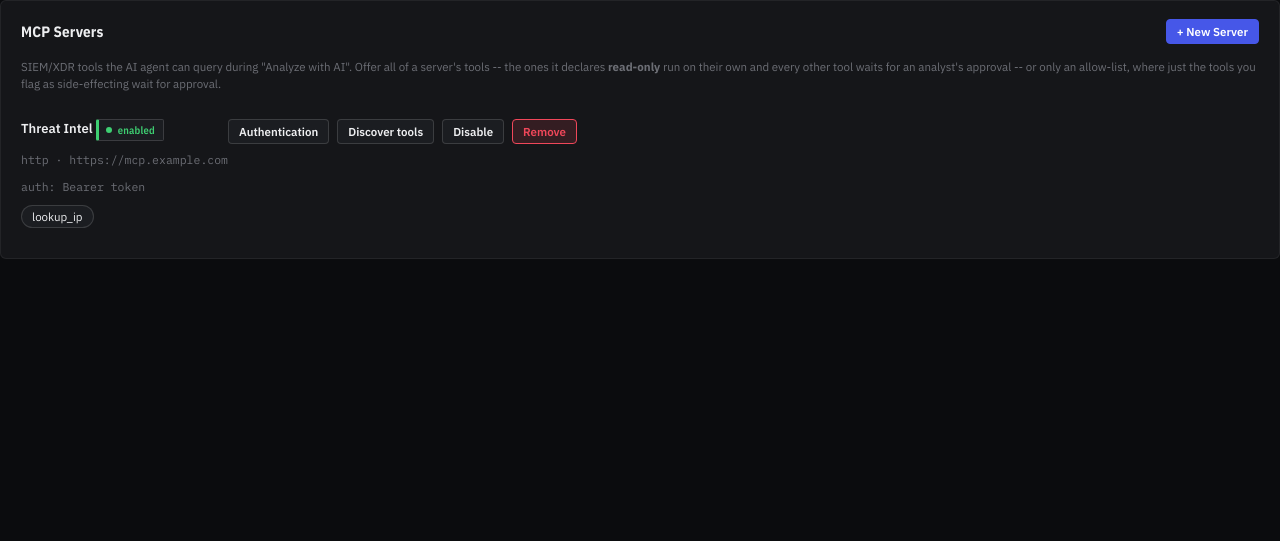
Scenario: editing a saved server's authentication › switching to a different type makes the new secret required (the old one can't be reinterpreted)
The image size is (1280, 541).
Click the button "Authentication".
click(279, 131)  # box [228,118,329,144]
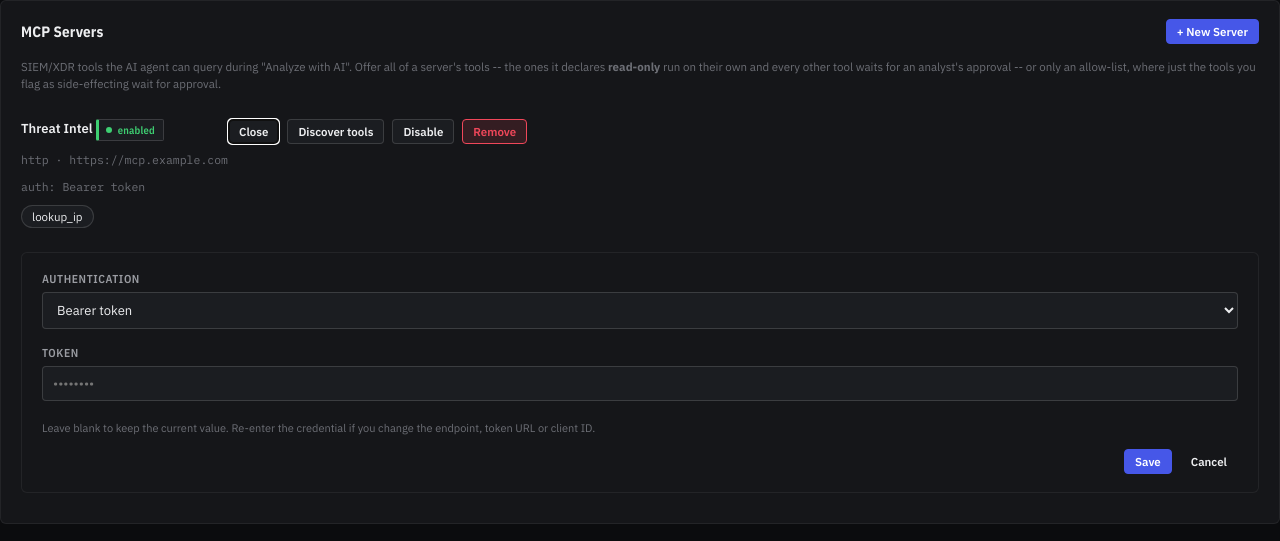
Select "API key" in the dropdown labelled "Authentication" at (640, 310), box [42,292,1238,329]
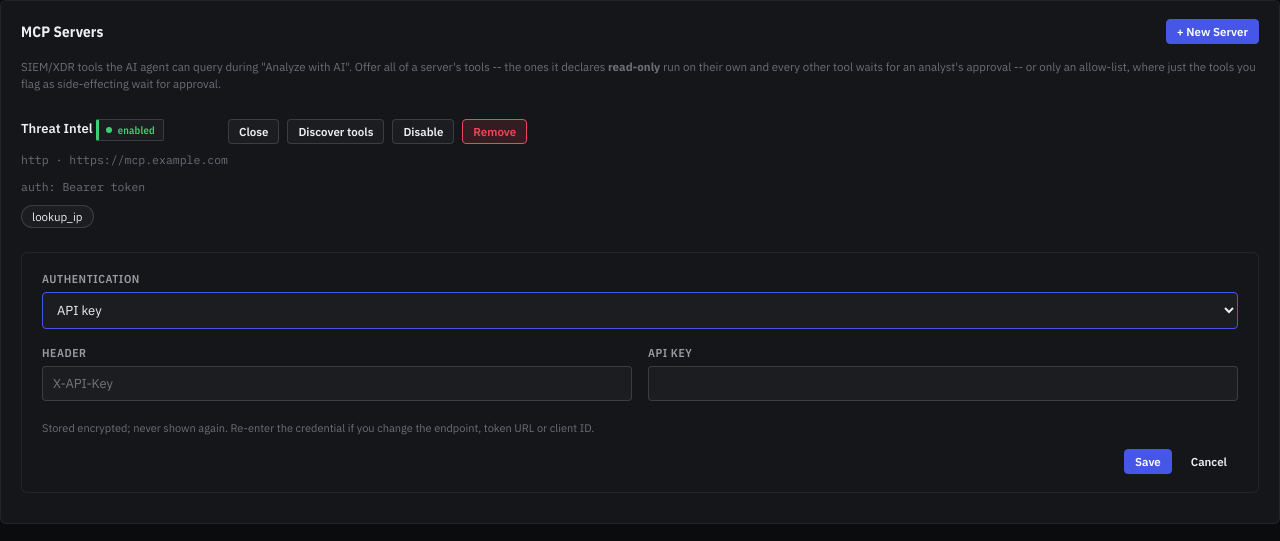
Check: the text "Leave blank to keep the current value" is gone
